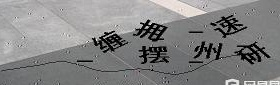chinese: (235, 35, 272, 71), (92, 29, 127, 56), (210, 15, 249, 38), (133, 19, 167, 43), (190, 42, 225, 64), (139, 44, 169, 67)
